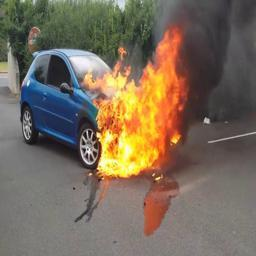fire: (83, 25, 190, 179)
